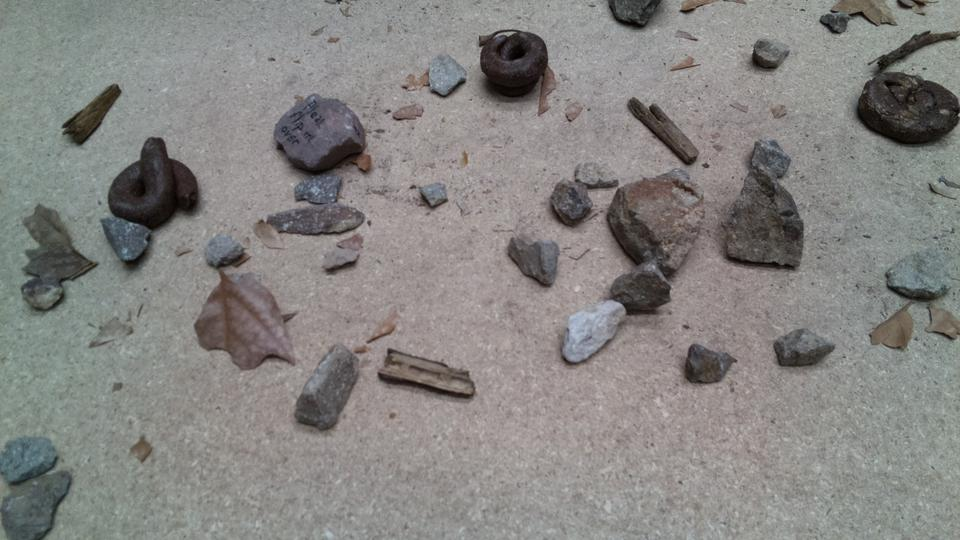poop: (105, 134, 200, 227), (852, 70, 960, 147), (482, 31, 550, 99)
